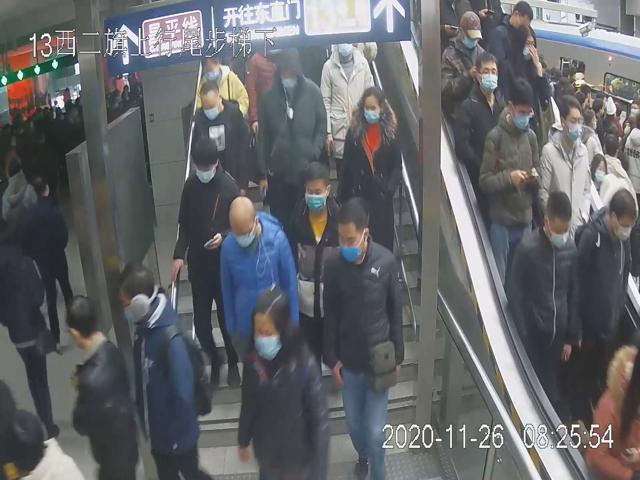person: (319, 192, 406, 478), (170, 136, 248, 392), (235, 280, 326, 480), (507, 183, 580, 393), (477, 76, 540, 301), (222, 190, 299, 369), (338, 83, 402, 271), (256, 44, 327, 203), (285, 159, 341, 346), (185, 77, 251, 207), (539, 90, 595, 228), (453, 50, 506, 164), (193, 48, 248, 119)
